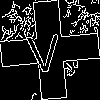V: (25, 25, 62, 73)
